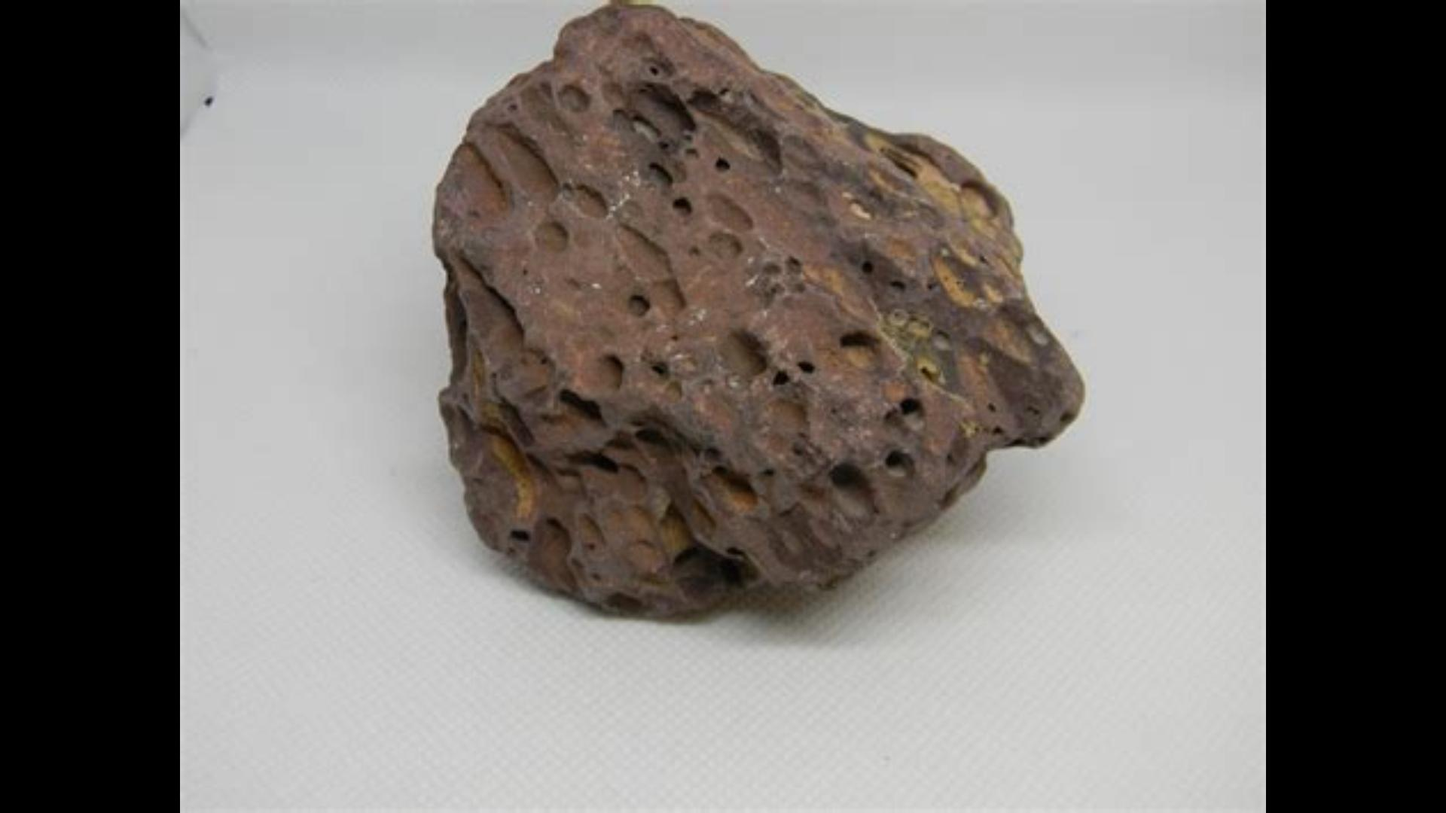rock: (437, 9, 1080, 609)
